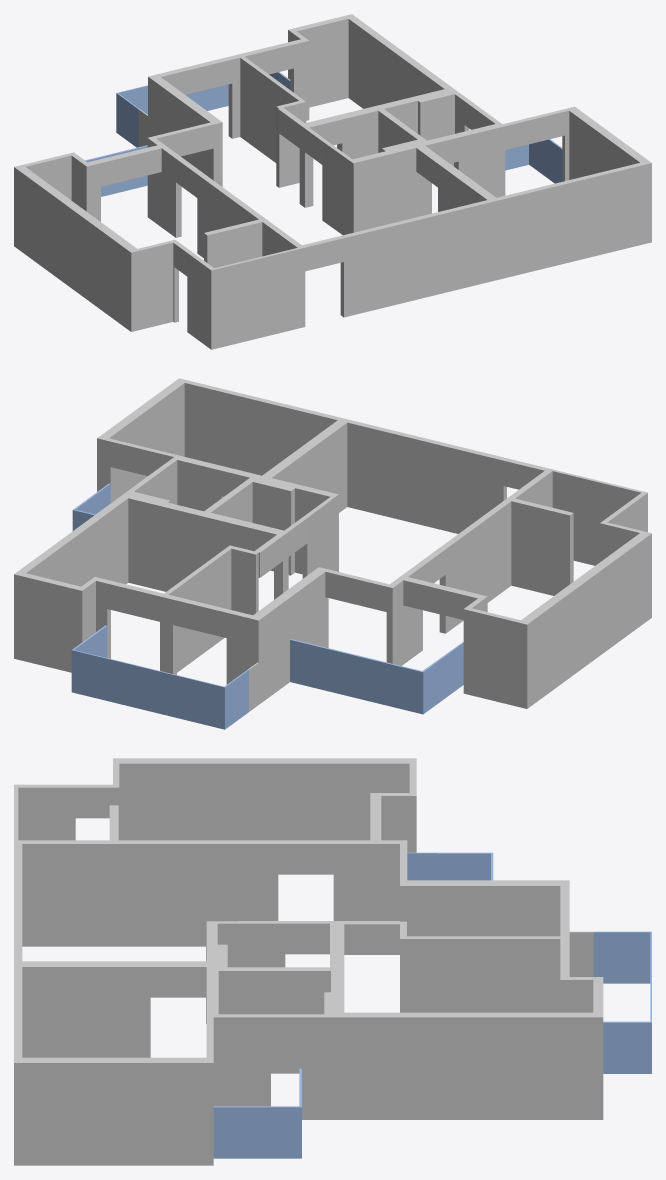
The model's file is 3BHK FLOOR PLAN.gltf.
3 renders of one model, top to bottom at view 1: azimuth 30°, elevation 25°; view 2: azimuth 150°, elevation 25°; view 3: azimuth 270°, elevation 25°, orthographic. The views are drawn at different scales.
Parts seen in each view (by area): view 1: SketchUp, ID27, ID13, ID33; view 2: SketchUp, ID27, ID33, ID13; view 3: SketchUp, ID27, ID21, ID33.
Part boxes in pixels (x1,y1,x2,y2): SketchUp: [14, 14, 651, 349]; ID27: [116, 72, 290, 147]; ID13: [505, 139, 562, 183]; ID33: [85, 145, 147, 196]; SketchUp: [14, 378, 651, 711]; ID27: [71, 625, 248, 729]; ID33: [290, 639, 463, 714]; ID13: [73, 483, 110, 515]; SketchUp: [14, 758, 603, 1165]; ID27: [593, 931, 651, 1073]; ID21: [213, 1107, 301, 1158]; ID33: [407, 852, 493, 880].
Bounding box in the file's own units: 12.73 × 2 × 11.26.
